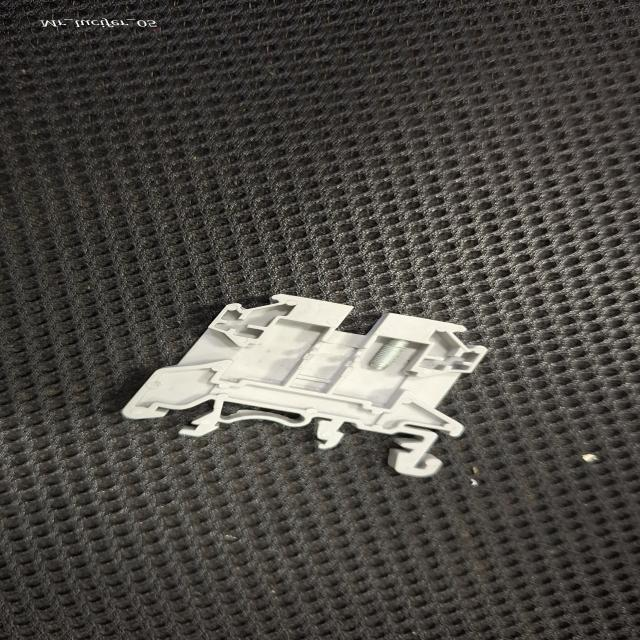Reject: (112, 291, 496, 481)
